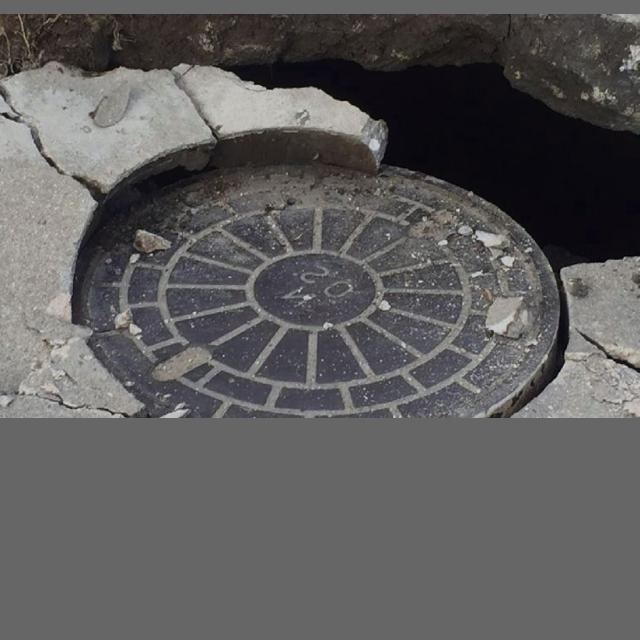circle: (0, 30, 630, 413)
